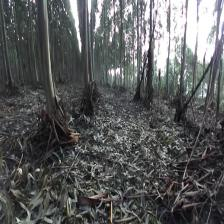trunk: (38, 4, 56, 113), (1, 16, 14, 88), (82, 5, 91, 89)
